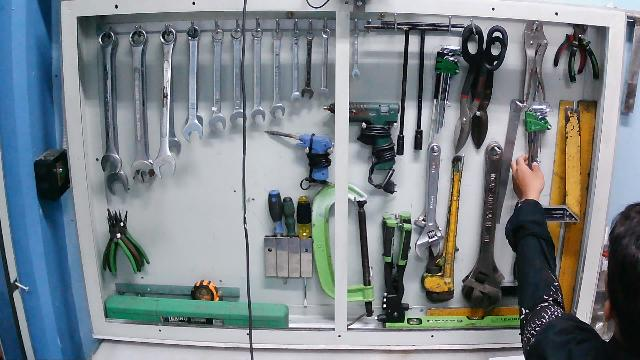kunci_l_bintang: (524, 104, 553, 186)
